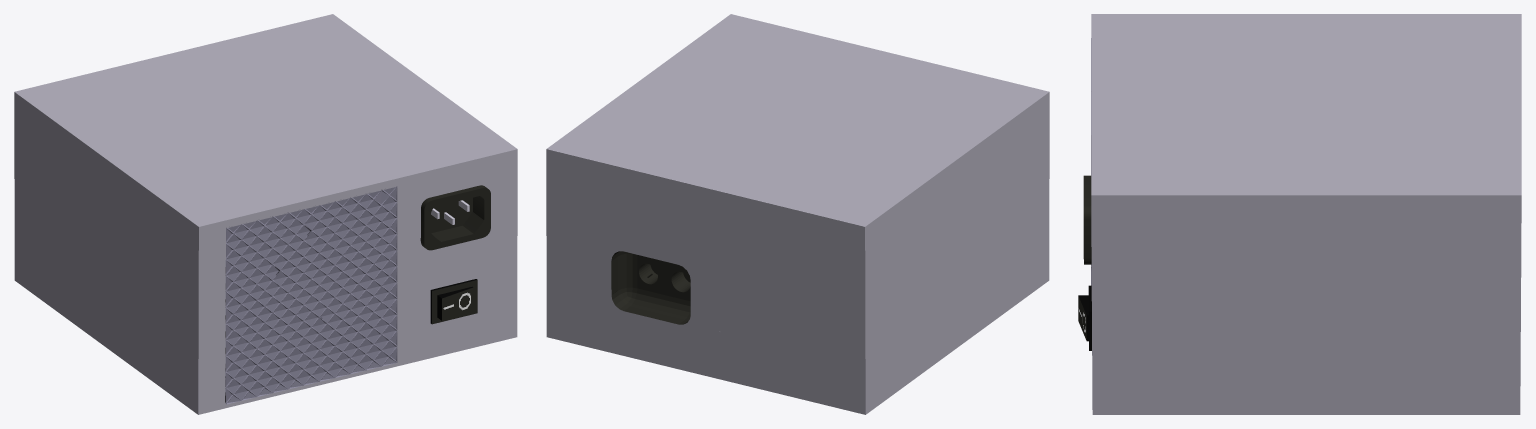
Rendered from PowerSupply.fbx.
3 renders of one model, left to right at view 1: azimuth 30°, elevation 25°; view 2: azimuth 150°, elevation 25°; view 3: azimuth 270°, elevation 25°, orthographic. The views are drawn at different scales.
Parts seen in each view (by area): view 1: PowerSupply; view 2: PowerSupply; view 3: PowerSupply.
Part boxes in pixels (x1,y1,x2,y2): PowerSupply: (14,14,517,414); PowerSupply: (546,14,1049,414); PowerSupply: (1078,14,1521,414).
Size of the model in its own units: 460 by 260 by 475.
1 material, 1 textured.
